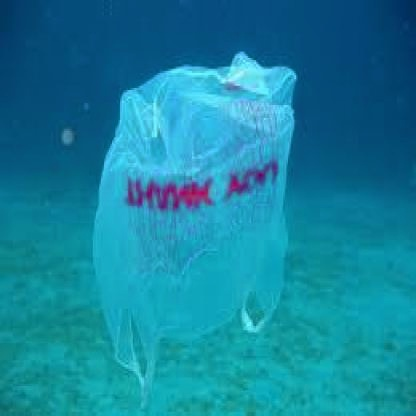pbag: (91, 50, 296, 406)
